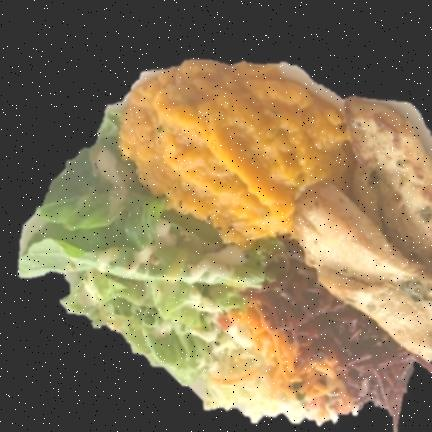beet: (245, 239, 416, 426)
carrot: (228, 302, 355, 420)
chicken: (295, 99, 432, 360)
salad: (19, 115, 265, 385)
